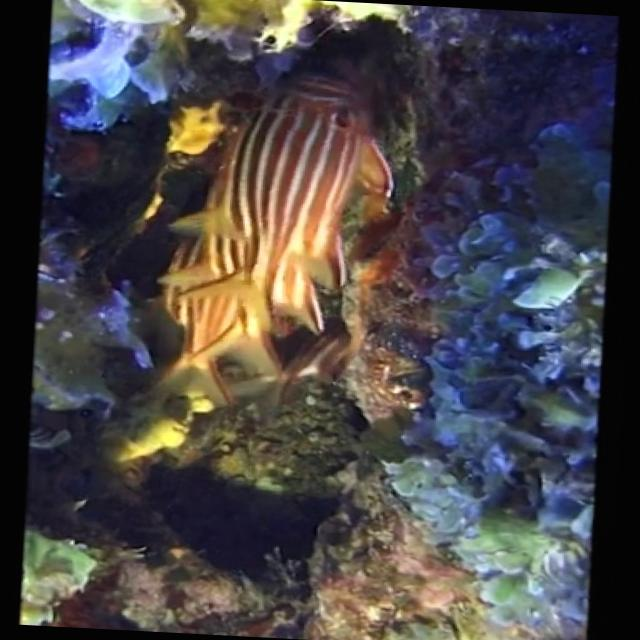Asker Baligi: (17, 0, 619, 640), (144, 63, 402, 420)
